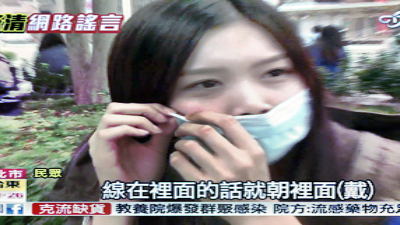mask_weared_incorrect: (170, 47, 316, 169)
